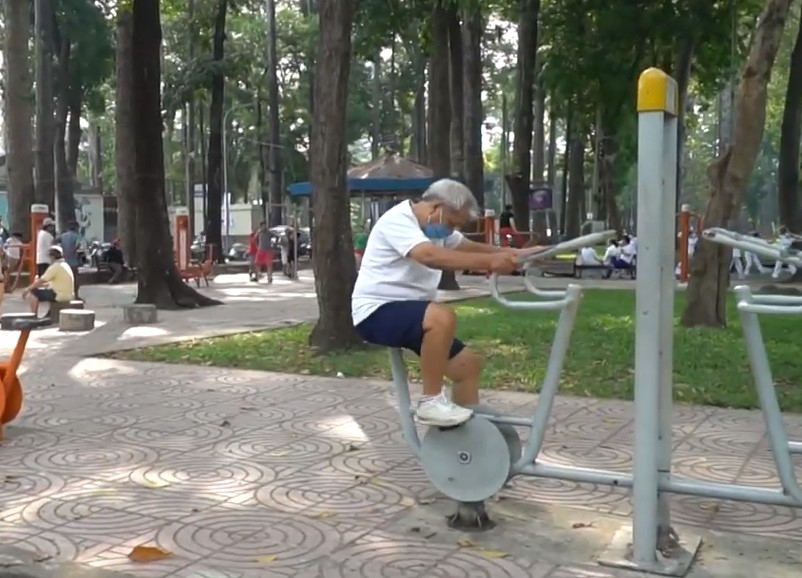face_with_mask: (419, 175, 474, 244)
